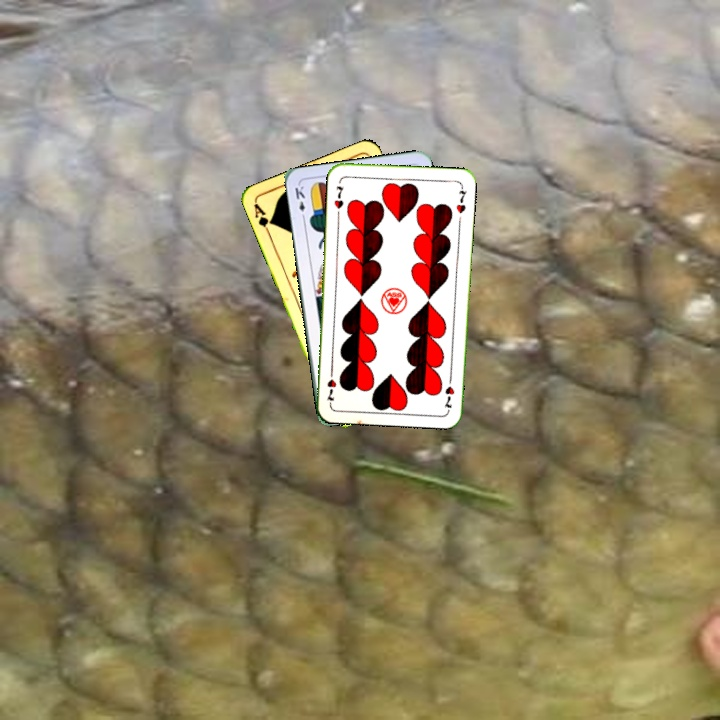EK: (291, 182, 308, 223)
GA: (250, 199, 275, 238)
H7: (440, 372, 457, 412), (330, 182, 347, 211)
